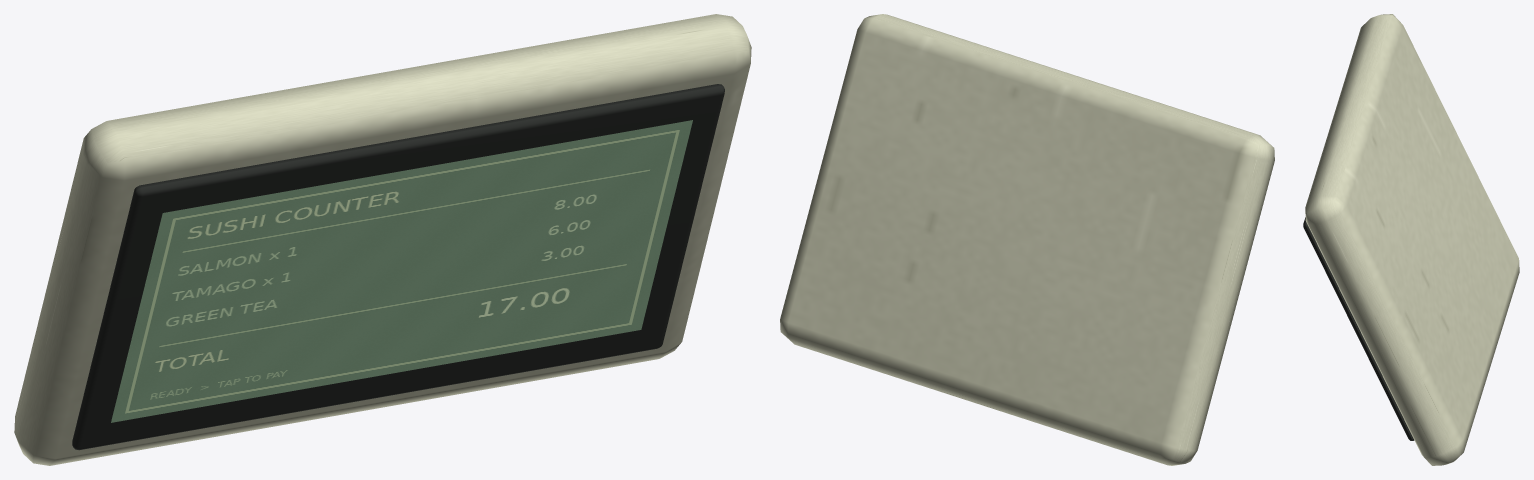
File: pos-terminal.glb
3 renders of one model, left to right at view 1: azimuth 30°, elevation 25°; view 2: azimuth 150°, elevation 25°; view 3: azimuth 270°, elevation 25°, orthographic. The views are drawn at different scales.
Visible parts, largest first — view 1: POS illustrated LCD, POS screen ivory surround, POS inset charcoal bezel; view 2: POS screen ivory surround; view 3: POS screen ivory surround, POS inset charcoal bezel.
Boxes of the visible parts, x1,y1,x2,y2 form: POS illustrated LCD: [111, 120, 692, 422]; POS screen ivory surround: [14, 14, 751, 465]; POS inset charcoal bezel: [72, 84, 724, 450]; POS screen ivory surround: [780, 14, 1274, 465]; POS screen ivory surround: [1305, 14, 1519, 465]; POS inset charcoal bezel: [1303, 217, 1414, 440].
Bounding box in the file's own units: 2.49 × 1.5 × 1.12.
Materials: 3 (2 with a texture image).
